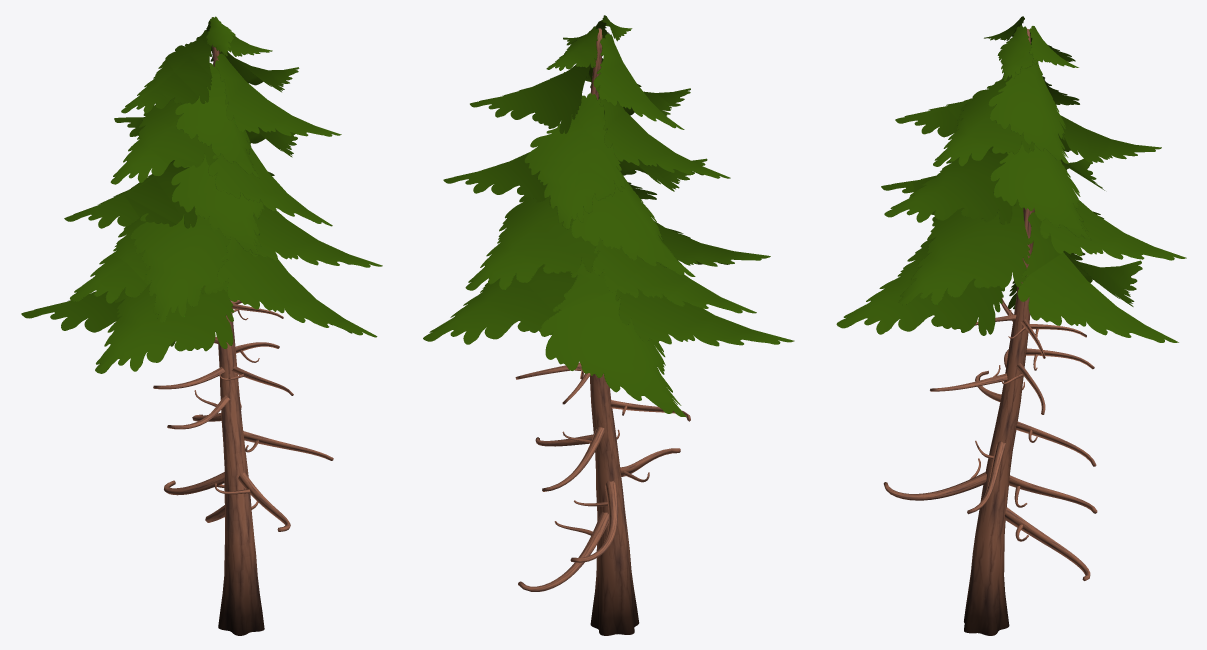
The model's file is Pine_3.glb.
The picture shows the model from 3 angles, left to right: view 1: azimuth 30°, elevation 25°; view 2: azimuth 150°, elevation 25°; view 3: azimuth 270°, elevation 25°; orthographic projection. The views are drawn at different scales.
Visible parts, largest first — view 1: Pine_3; view 2: Pine_3; view 3: Pine_3.
Part boxes in pixels (x1,y1,x2,y2): Pine_3: [21, 16, 382, 635]; Pine_3: [423, 15, 794, 635]; Pine_3: [836, 16, 1186, 635].
Size of the model in its own units: 3.61 by 7.39 by 4.
Materials: 2 (2 with a texture image).
